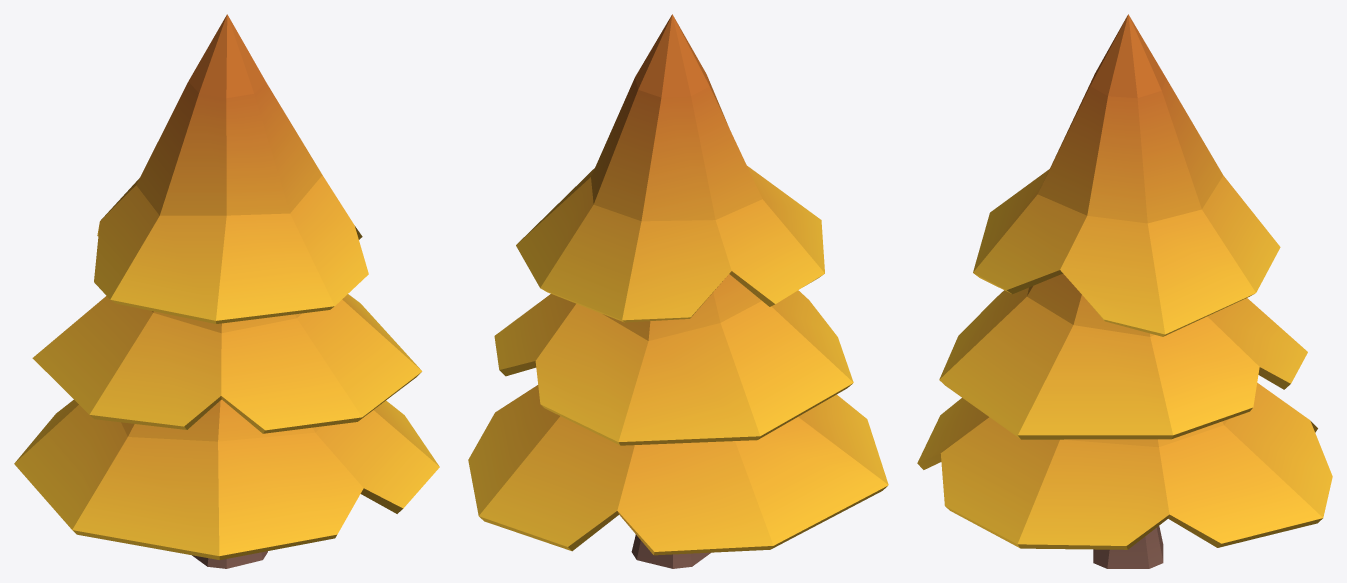
Rendered from AutumnPine1.fbx.
The picture shows the model from 3 angles, left to right: view 1: azimuth 30°, elevation 25°; view 2: azimuth 150°, elevation 25°; view 3: azimuth 270°, elevation 25°; orthographic projection.
Parts seen in each view (by area): view 1: AutumnPine1; view 2: AutumnPine1; view 3: AutumnPine1.
Boxes of the visible parts, left/top/right/bottom form: AutumnPine1: left=14, top=14, right=439, bottom=568; AutumnPine1: left=468, top=14, right=888, bottom=568; AutumnPine1: left=917, top=14, right=1332, bottom=568.
Size of the model in its own units: 432 by 613 by 428.
